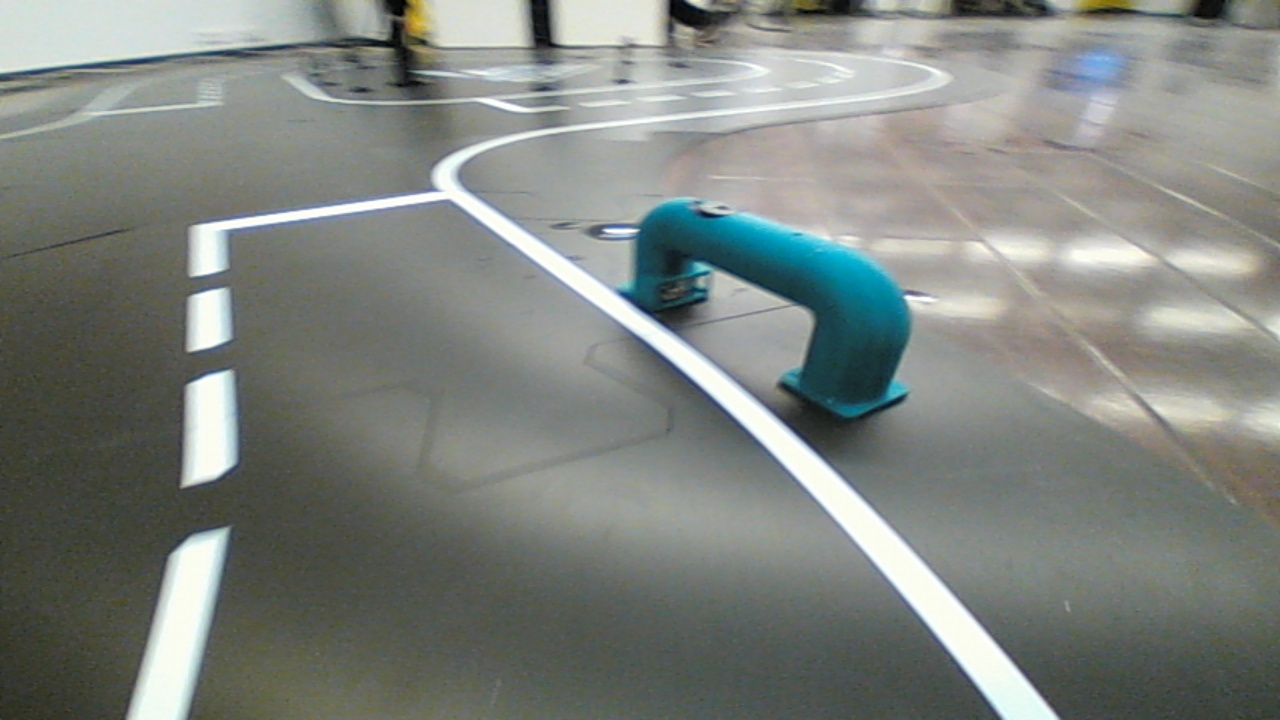Pedestrian crossing: (622, 192, 921, 435)
